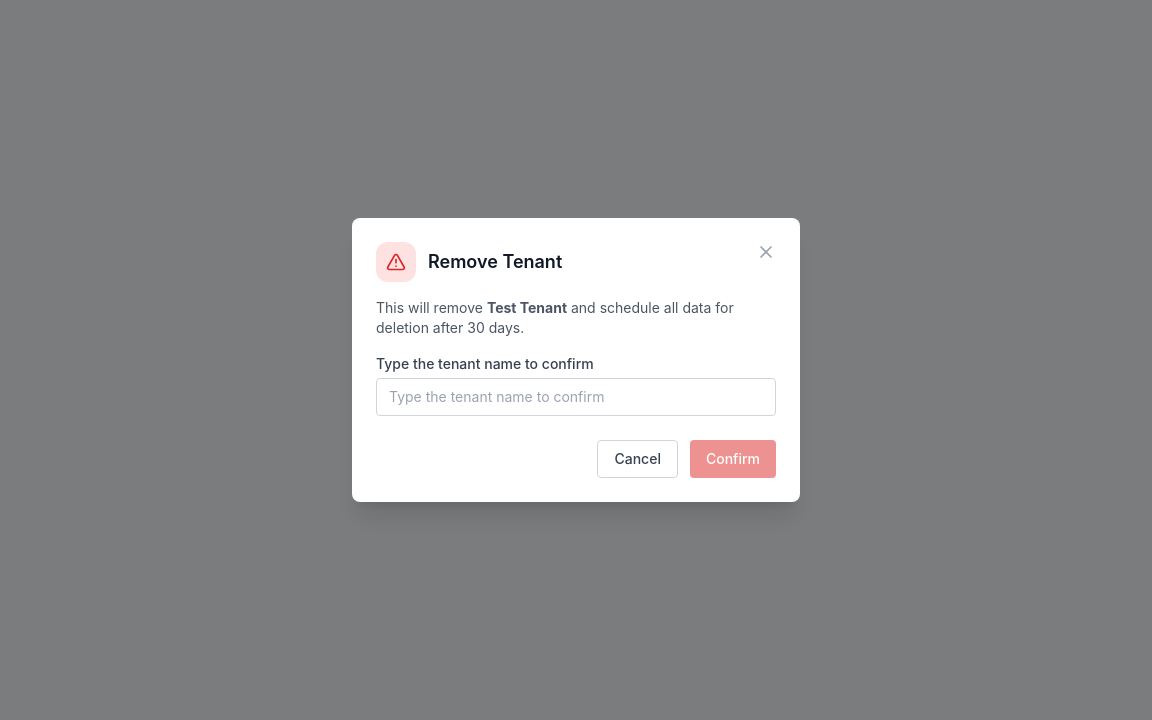
Test case: RemoveTenantModal › confirm button disabled until name matches
expect the button "Confirm" is disabled: met, box [690, 440, 776, 478]
Type "Test Tenant" into the field with placeholder "Type the tenant name to confirm". click: (576, 397)
box: [376, 378, 776, 416]
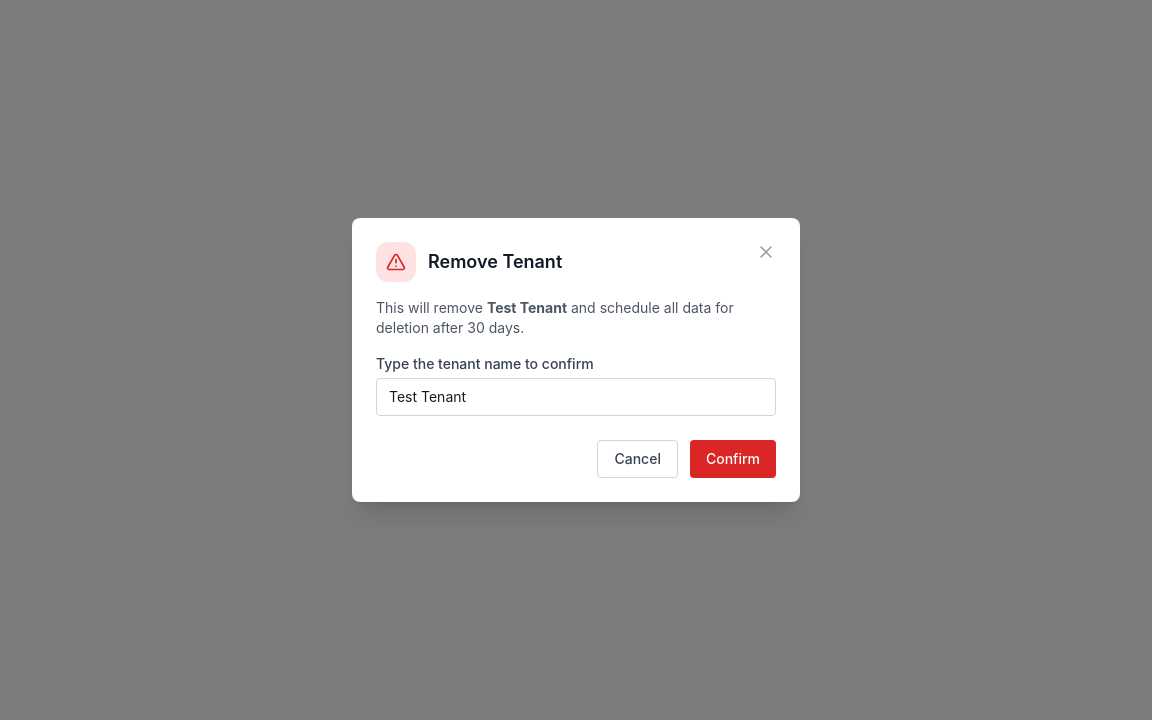
expect the button "Confirm" is enabled: met, box [690, 440, 776, 478]
